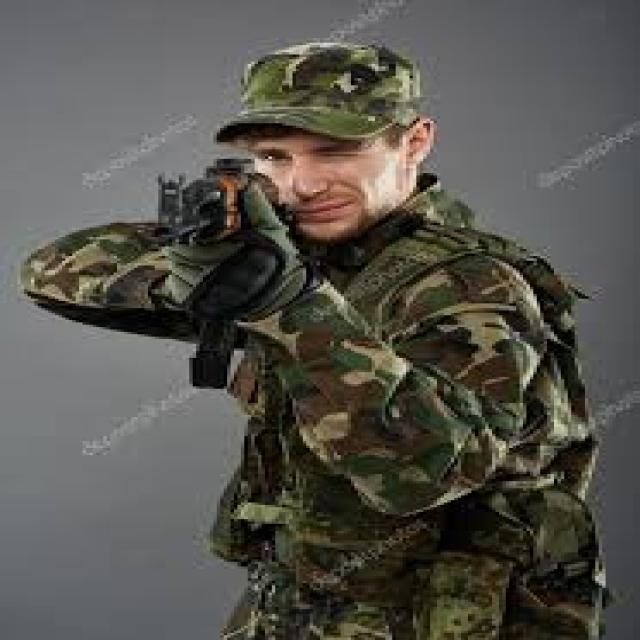soldier: (43, 14, 640, 640)
